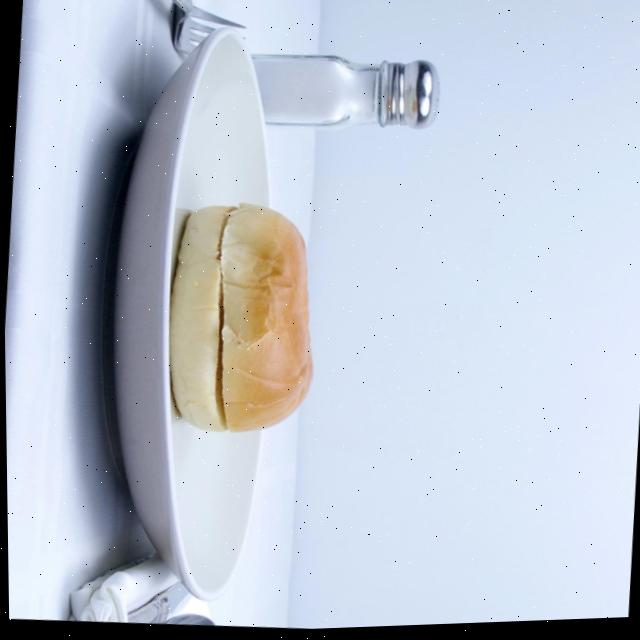Bagel: (167, 205, 310, 434)
